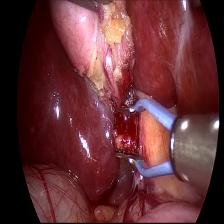Bipolar: (110, 94, 205, 187)
